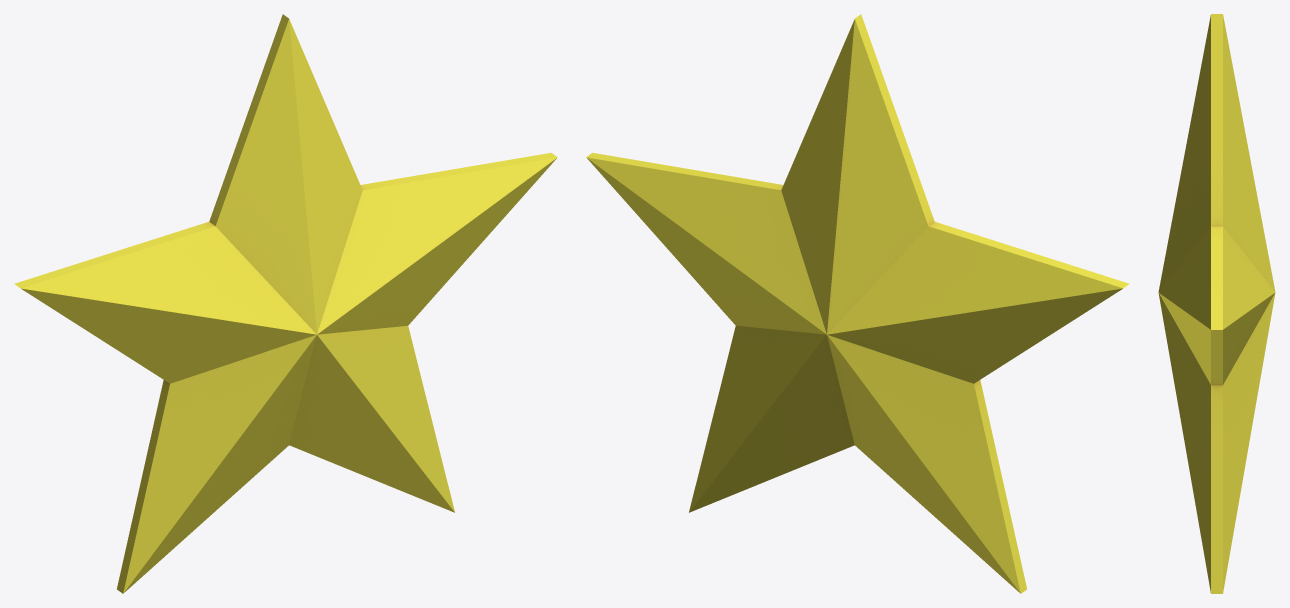
Rendered from star.obj.
3 views of the same model, side by side, from view 1: azimuth 30°, elevation 25°; view 2: azimuth 150°, elevation 25°; view 3: azimuth 270°, elevation 25° (orthographic). The views are drawn at different scales.
Visible parts, largest first — view 1: Star_Circle; view 2: Star_Circle; view 3: Star_Circle.
Boxes of the visible parts, x1,y1,x2,y2 form: Star_Circle: (14,14,557,593); Star_Circle: (586,14,1129,593); Star_Circle: (1158,14,1275,593).
Size of the model in its own units: 5.72 by 5.44 by 1.15.
